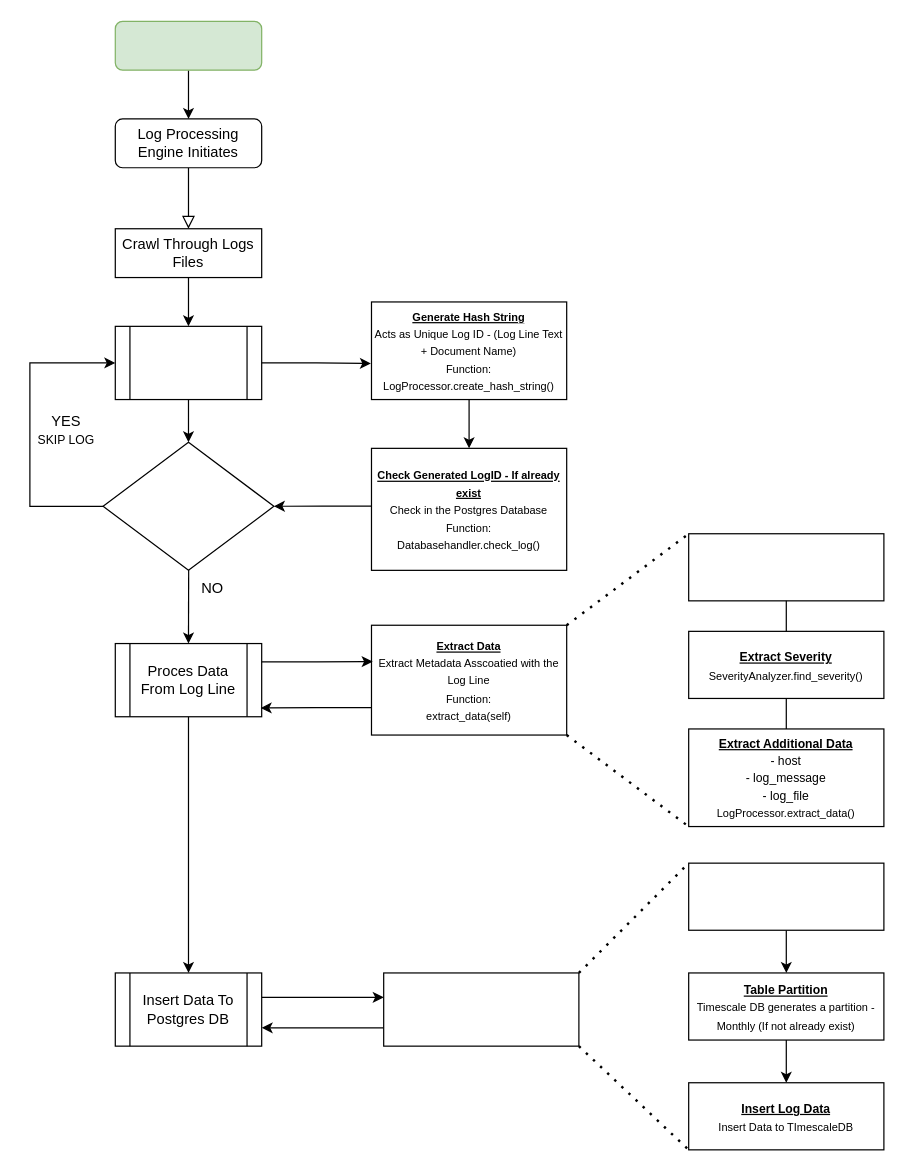
This 905x1174 diagram has some shape labels left out. The box of each missing label's shape, as (x1, y1, x2, y2) in pixels:
Check if log already exist: (102, 441, 274, 570)
DB Secure Auth Authenticate against databse: (687, 862, 884, 930)
Extract Time Stamp TimestampAnalyzer.find_timestamp(): (687, 533, 884, 601)
Insert Data To Postgres SQL - TimescaleDB: (382, 972, 579, 1046)
Process Next Log Line: (114, 325, 262, 400)
Start: (114, 20, 262, 70)
